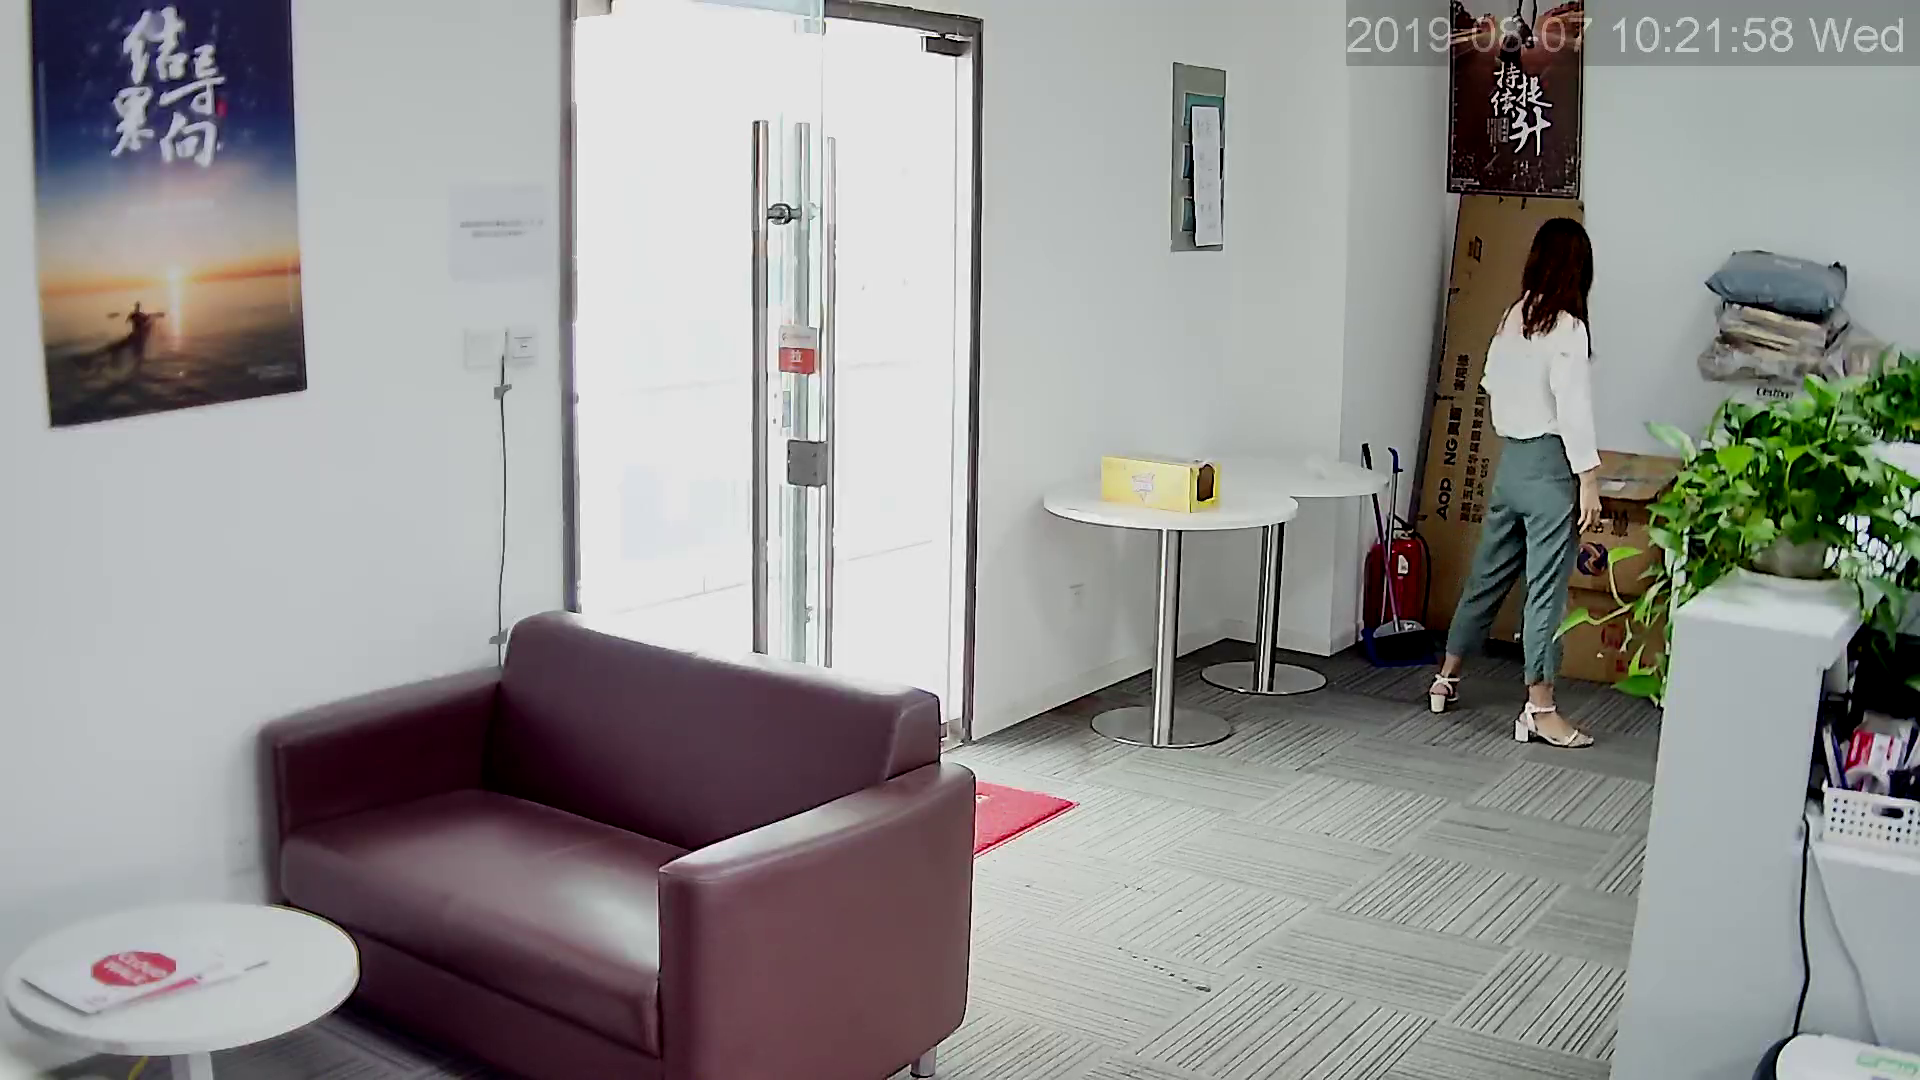bill: (24, 1, 309, 426), (1447, 1, 1578, 191)
